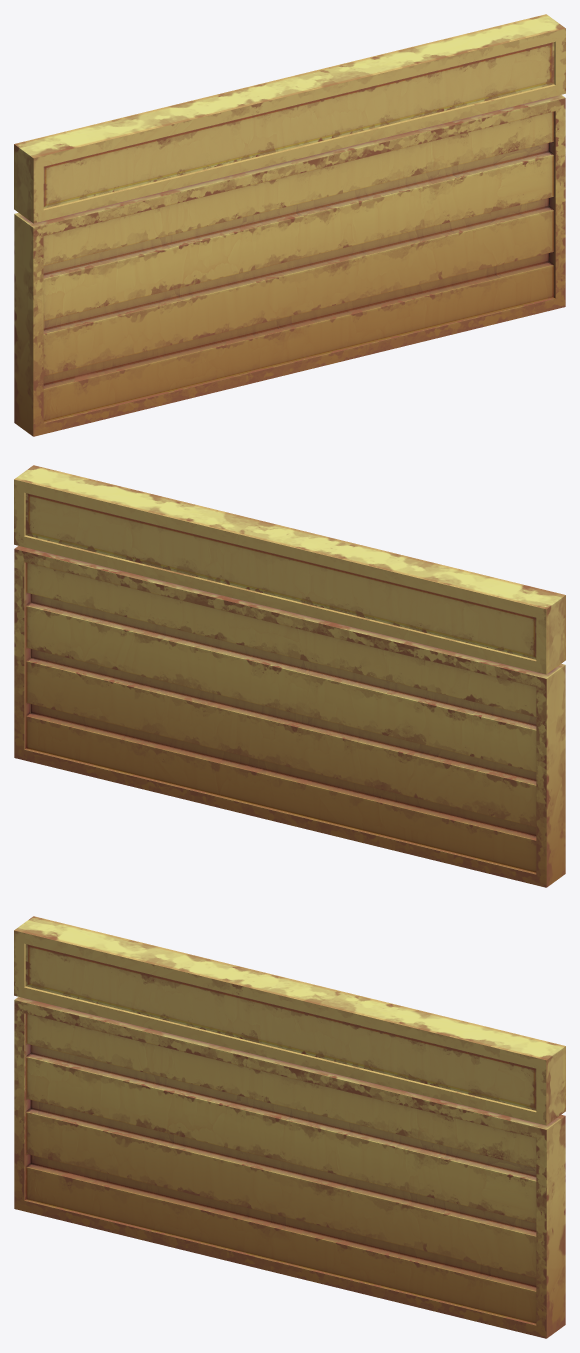
File: Portao.fbx
The picture shows the model from 3 angles, top to bottom: view 1: azimuth 30°, elevation 25°; view 2: azimuth 150°, elevation 25°; view 3: azimuth 330°, elevation 25°; orthographic projection.
Visible parts, largest first — view 1: Portao; view 2: Portao; view 3: Portao.
Boxes of the visible parts, bbox=[...] form: Portao: bbox=[14, 14, 565, 436]; Portao: bbox=[14, 465, 565, 887]; Portao: bbox=[14, 916, 565, 1338].
Bounding box in the file's own units: 4 × 2 × 0.2547.
